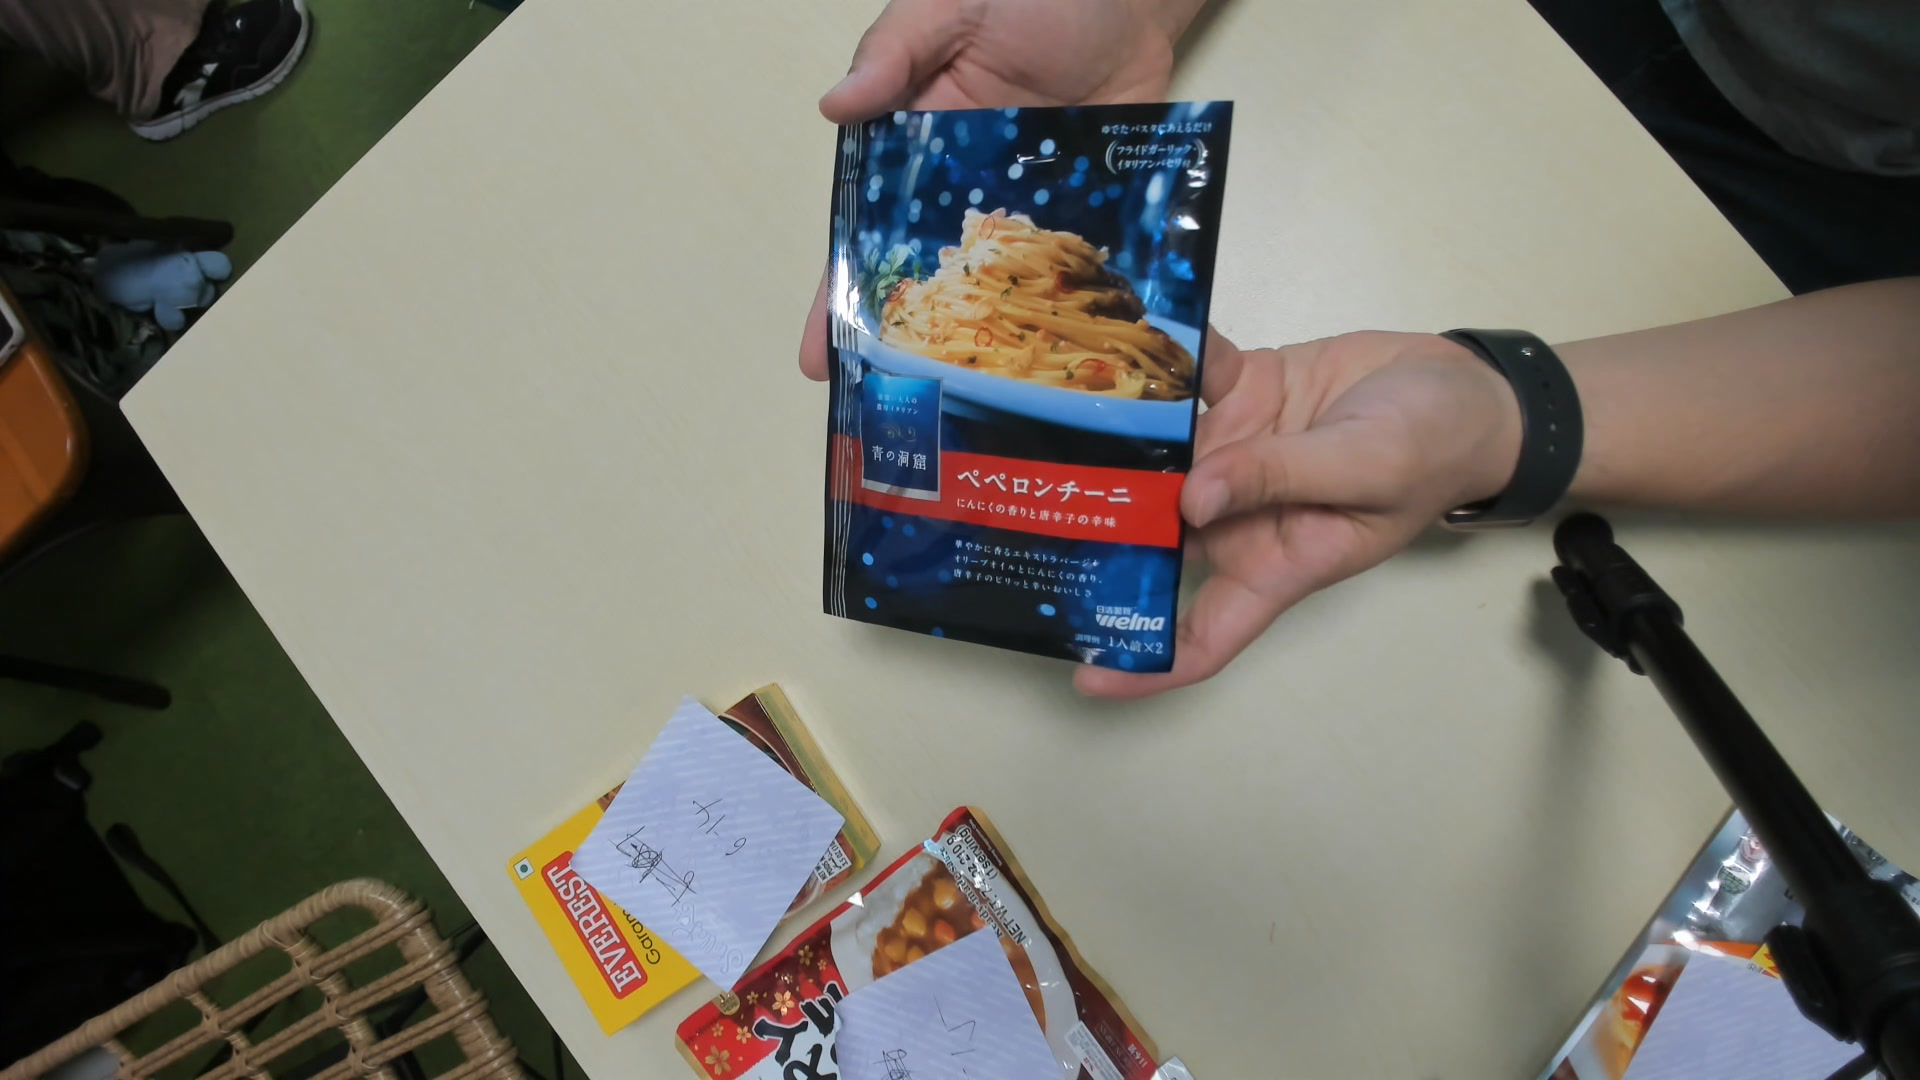CurryPastePowderSauce_0-99g_NonHalal_NonHealthy: (818, 102, 1233, 680)
